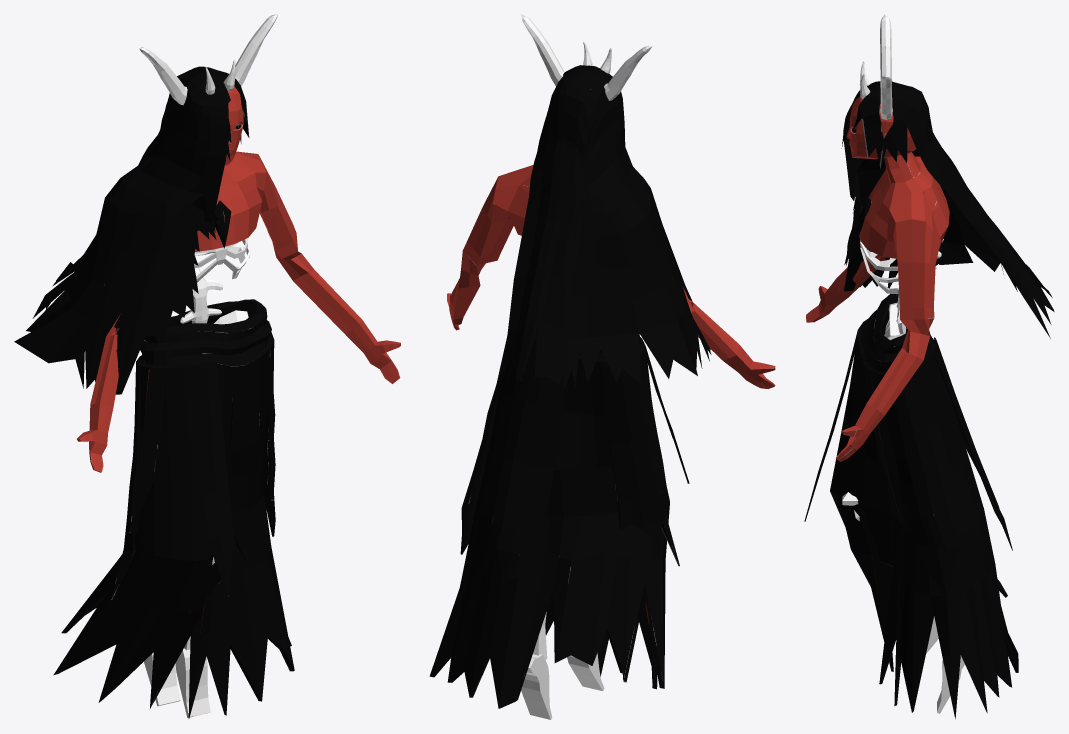
File: cursedqueenattack_24.fbx
The picture shows the model from 3 angles, left to right: view 1: azimuth 30°, elevation 25°; view 2: azimuth 150°, elevation 25°; view 3: azimuth 270°, elevation 25°; orthographic projection. The views are drawn at different scales.
Parts seen in each view (by area): view 1: cursed_queen; view 2: cursed_queen; view 3: cursed_queen.
Part boxes in pixels (x1,y1,x2,y2): cursed_queen: (14,14,400,718); cursed_queen: (429,14,775,719); cursed_queen: (804,14,1054,719).
Bounding box in the file's own units: 138 × 280 × 96.68.
